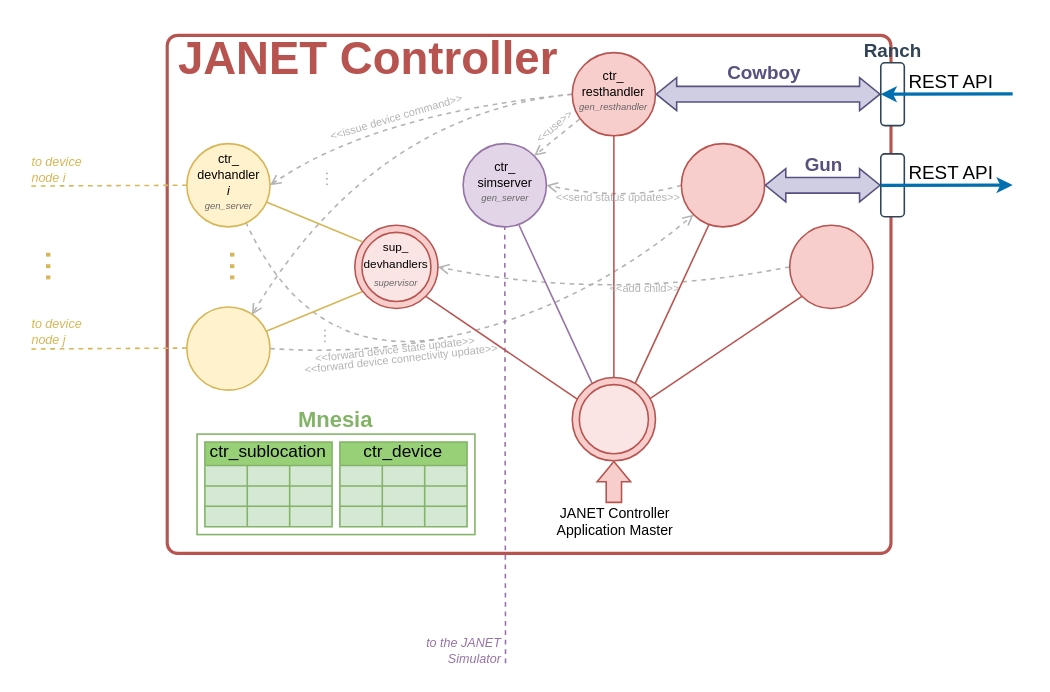
The diagram is 1050 pixels wide and 692 high, and some of its shapes have lost their labels. Each missing label, with the centre of its shape:
"ctr_ devhandler j gen_server" belongs at (227,347).
"ctr_ httpclient gen_server" belongs at (722,184).
"ctr_ pairserver gen_server" belongs at (830,266).
"sup_jctr supervisor" belongs at (613,418).
